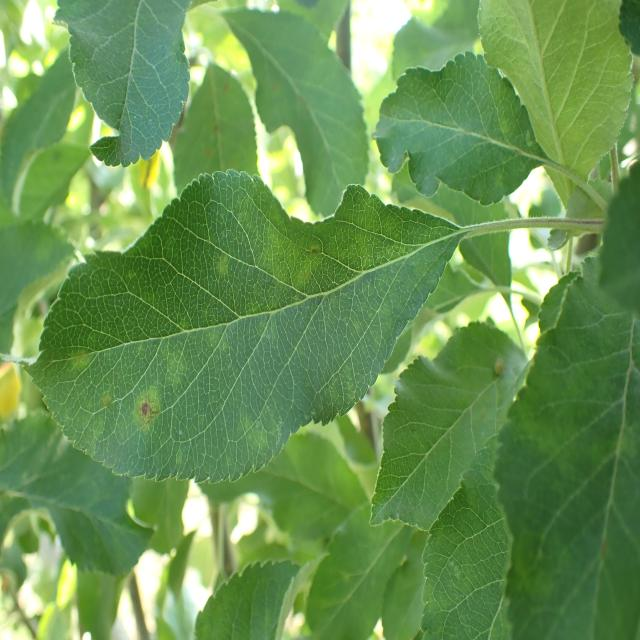scab: (47, 190, 433, 452)
